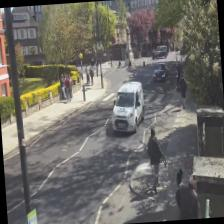person: (146, 126, 167, 193), (178, 73, 188, 108)
